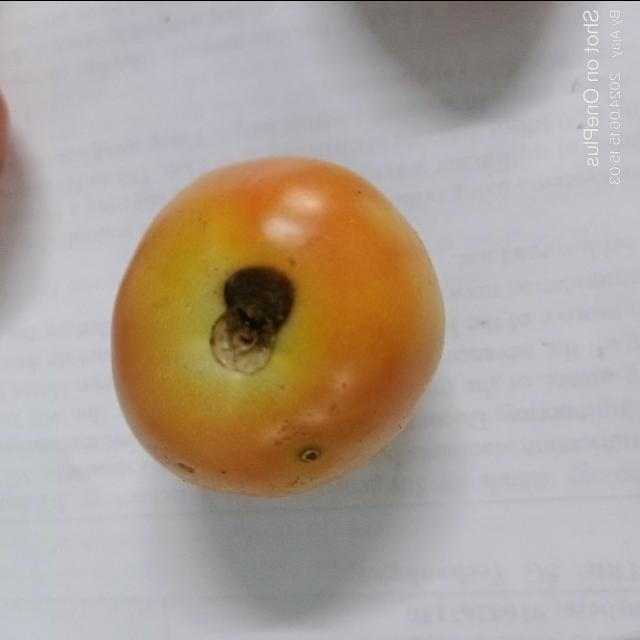fruitworm_bore: (204, 254, 294, 382)
